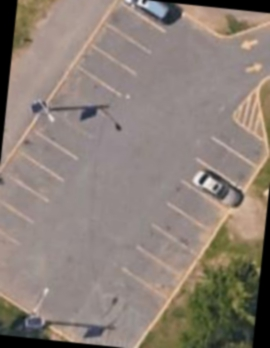parkingspot: (0, 0, 189, 286), (116, 109, 270, 305)
